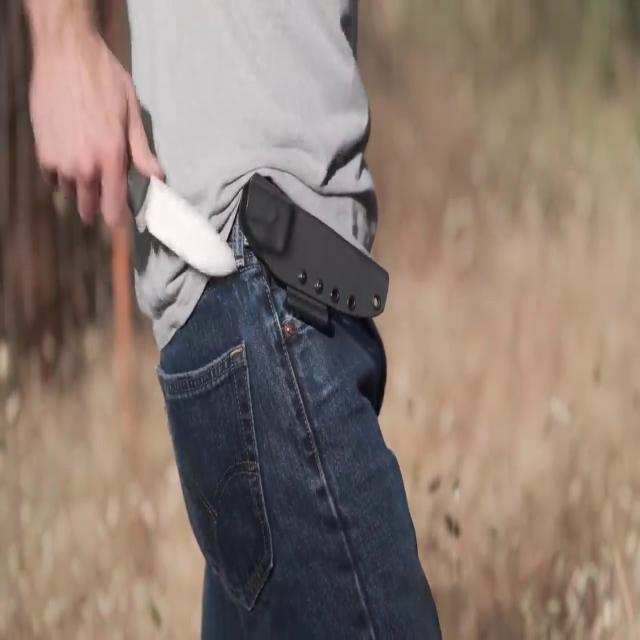Knife: (78, 122, 242, 294)
